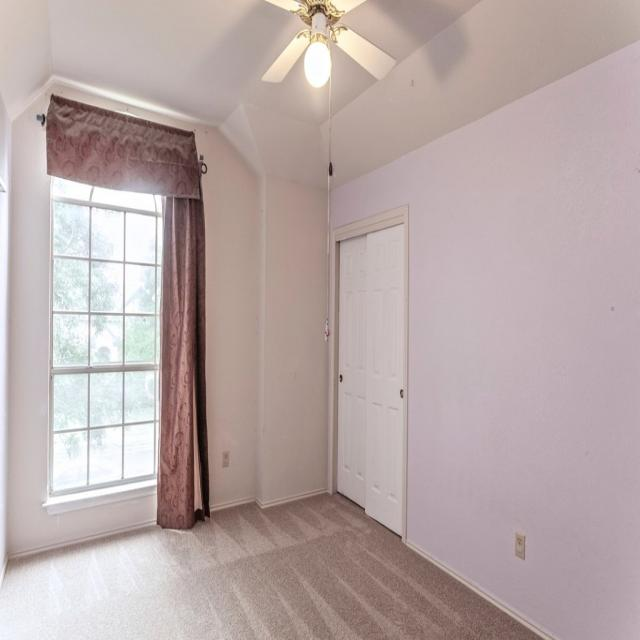Bulb: (263, 0, 396, 85)
